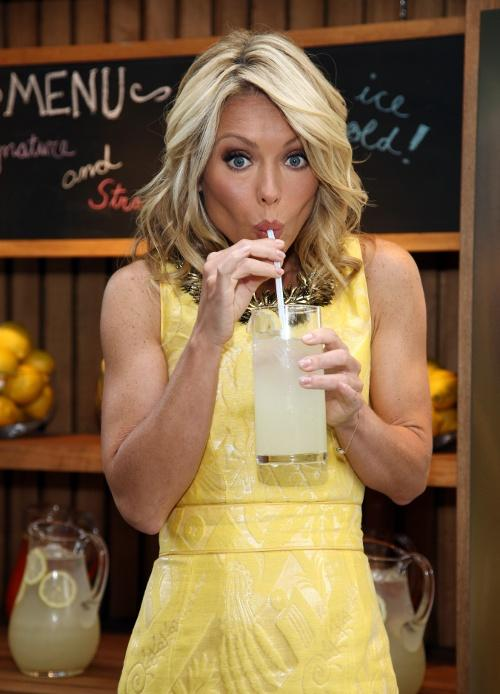person: (93, 24, 437, 694)
